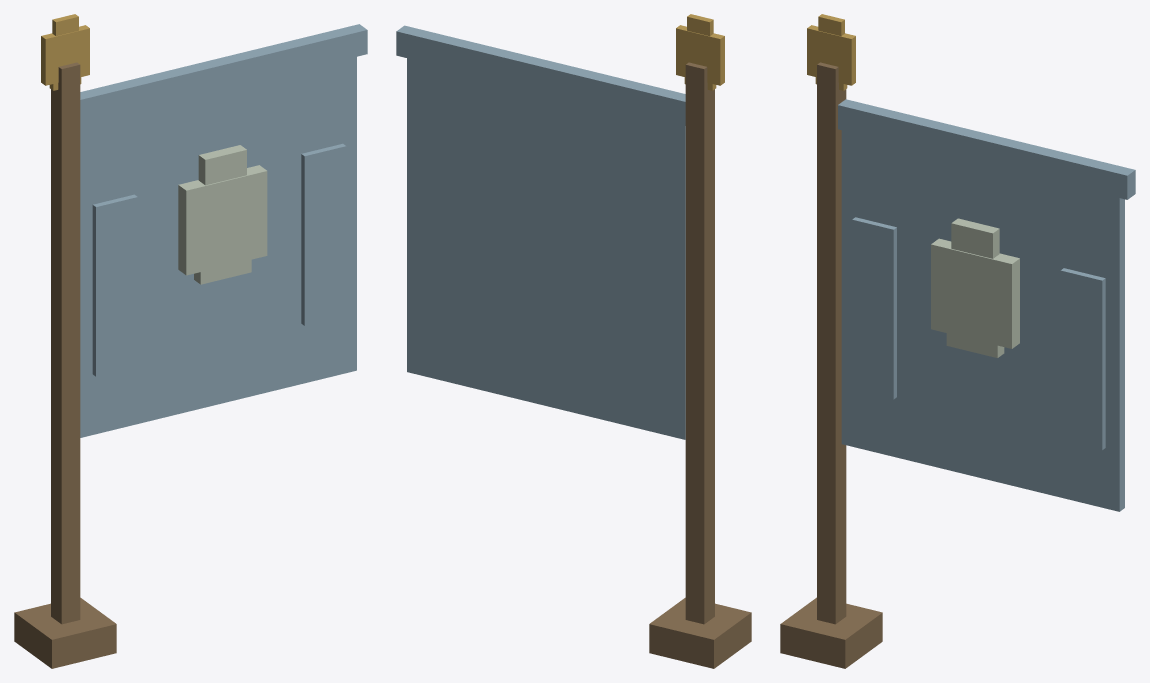
Rendered from cosmetic_banner_mist_bunting.glb.
3 views of the same model, side by side, from view 1: azimuth 30°, elevation 25°; view 2: azimuth 150°, elevation 25°; view 3: azimuth 330°, elevation 25° (orthographic).
Visible parts, largest first — view 1: CosmeticArt_cloth, CosmeticArt_pole, CosmeticArt_crest, CosmeticArt_finial; view 2: CosmeticArt_cloth, CosmeticArt_pole, CosmeticArt_finial; view 3: CosmeticArt_cloth, CosmeticArt_pole, CosmeticArt_crest, CosmeticArt_finial.
Part boxes in pixels (x1,y1,x2,y2): CosmeticArt_cloth: [80, 24, 367, 437]; CosmeticArt_pole: [14, 62, 116, 668]; CosmeticArt_crest: [178, 145, 267, 284]; CosmeticArt_finial: [41, 14, 89, 90]; CosmeticArt_cloth: [396, 25, 685, 439]; CosmeticArt_pole: [649, 62, 751, 668]; CosmeticArt_finial: [676, 14, 724, 90]; CosmeticArt_cloth: [838, 99, 1135, 511]; CosmeticArt_pole: [780, 62, 882, 668]; CosmeticArt_crest: [931, 218, 1019, 357]; CosmeticArt_finial: [807, 14, 855, 90].
Bounding box in the file's own units: 1.43 × 2.6 × 0.28.
